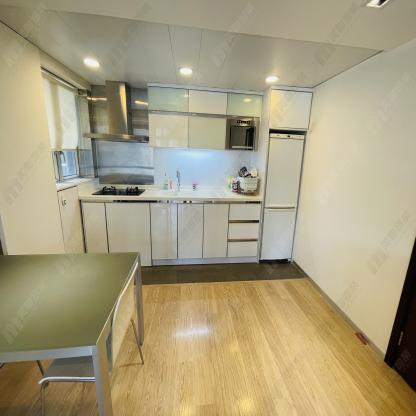Cupboard: (83, 199, 261, 262), (147, 85, 262, 151)
Exhaust Hood: (81, 77, 149, 146), (83, 81, 149, 142)
Faucet: (175, 164, 181, 190)
Fridge: (259, 132, 306, 263), (261, 130, 306, 260)
Oven: (225, 118, 260, 151), (227, 117, 259, 150)
Sink: (173, 188, 227, 197)
Stove: (89, 185, 149, 197), (90, 185, 145, 196)
